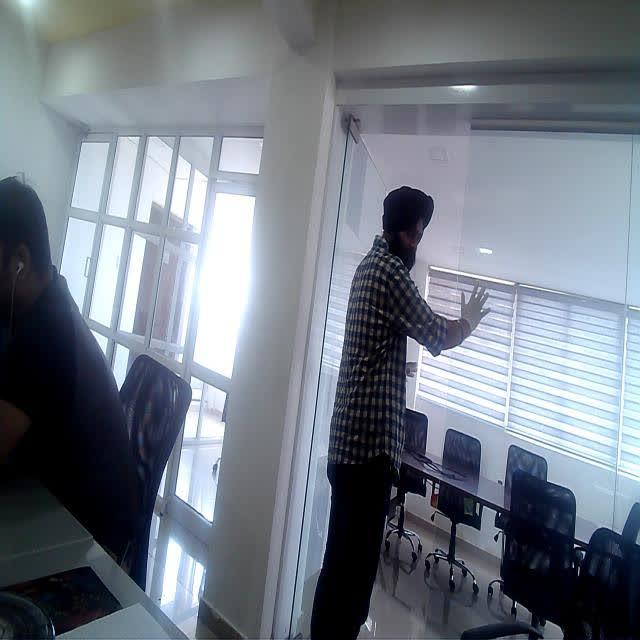with_gloves: (453, 272, 508, 336)
